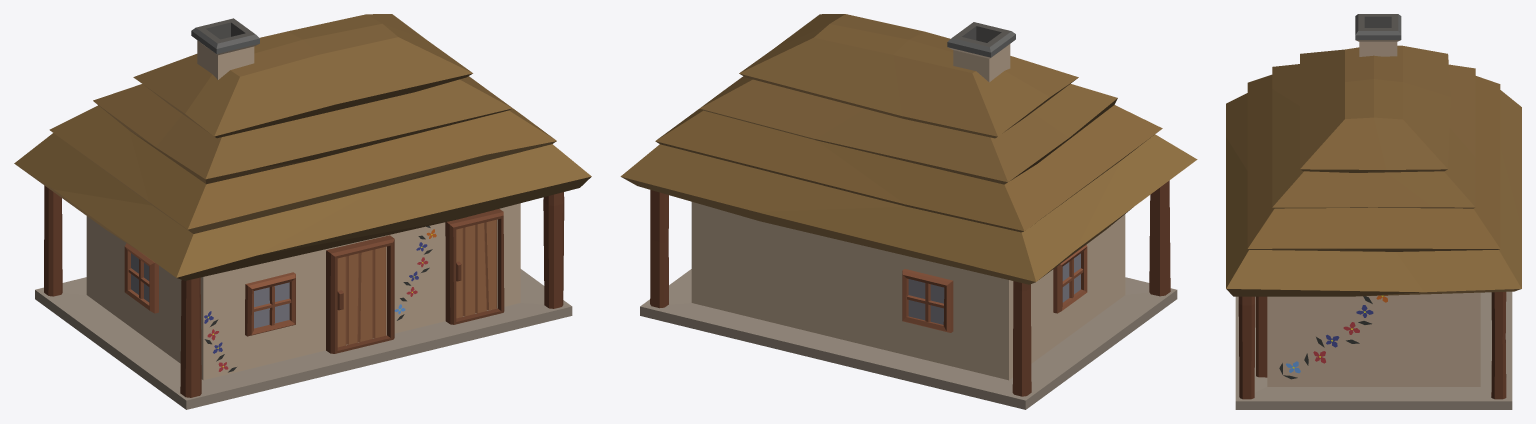
File: houses_small_0.fbx
3 renders of one model, left to right at view 1: azimuth 30°, elevation 25°; view 2: azimuth 150°, elevation 25°; view 3: azimuth 270°, elevation 25°, orthographic. The views are drawn at different scales.
Visible parts, largest first — view 1: house_small_0; view 2: house_small_0; view 3: house_small_0.
Part boxes in pixels (x1,y1,x2,y2): house_small_0: [14, 14, 591, 409]; house_small_0: [620, 14, 1197, 409]; house_small_0: [1226, 14, 1521, 409].
Bounding box in the file's own units: 391 × 264 × 264.
